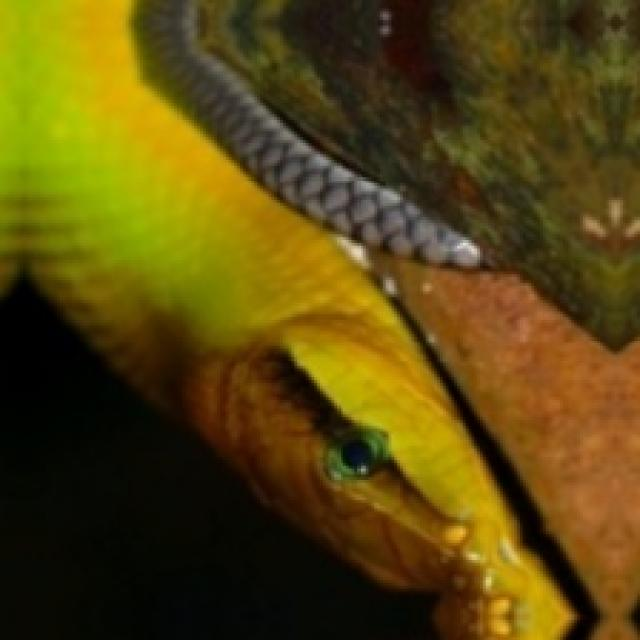red-tailed green ratsnake: (0, 0, 572, 640)
